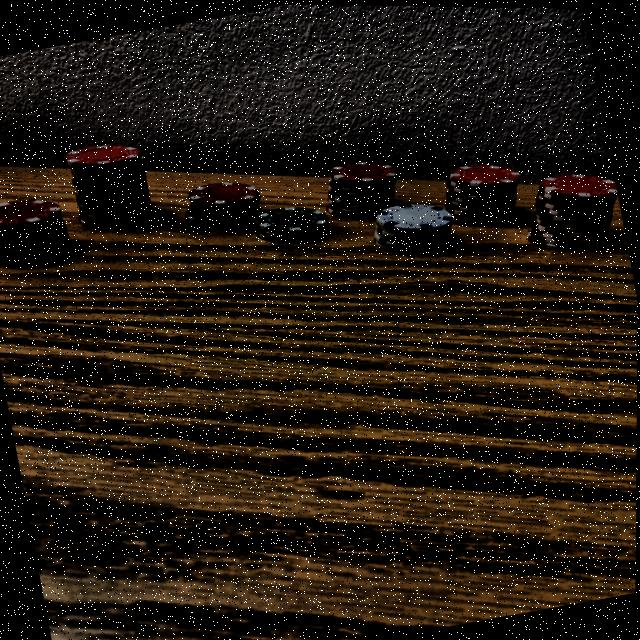Chip: (505, 148, 627, 271), (302, 140, 413, 238), (60, 133, 162, 237), (435, 142, 532, 239), (356, 190, 466, 272), (177, 165, 273, 254), (0, 188, 79, 282), (250, 195, 332, 257)
